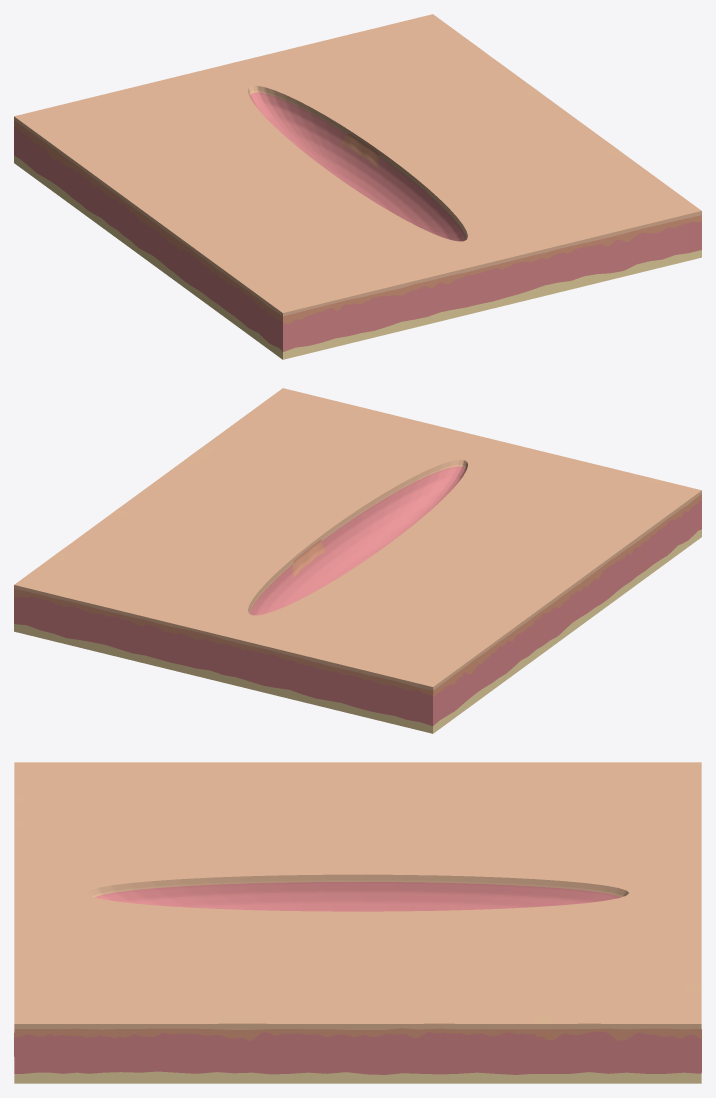
Rendered from suture_pad.glb.
3 views of the same model, one above another, from view 1: azimuth 30°, elevation 25°; view 2: azimuth 150°, elevation 25°; view 3: azimuth 270°, elevation 25° (orthographic). The views are drawn at different scales.
Visible parts, largest first — view 1: epidermis_4, dermis_5, subcutaneous.001_6, spacebetween_8; view 2: epidermis_4, dermis_5, subcutaneous.001_6, spacebetween_8; view 3: epidermis_4, dermis_5, subcutaneous.001_6, spacebetween_8.
Part boxes in pixels (x1=…): epidermis_4: x1=14, y1=14, x2=701, y2=316; dermis_5: x1=14, y1=92, x2=701, y2=351; subcutaneous.001_6: x1=14, y1=155, x2=701, y2=359; spacebetween_8: x1=14, y1=120, x2=701, y2=323; epidermis_4: x1=14, y1=388, x2=701, y2=690; dermis_5: x1=14, y1=466, x2=701, y2=725; subcutaneous.001_6: x1=14, y1=529, x2=701, y2=733; spacebetween_8: x1=14, y1=494, x2=701, y2=696; epidermis_4: x1=14, y1=762, x2=701, y2=1029; dermis_5: x1=14, y1=882, x2=701, y2=1074; subcutaneous.001_6: x1=14, y1=1071, x2=701, y2=1083; spacebetween_8: x1=14, y1=1028, x2=701, y2=1040.
Size of what is drawn, in the model's own units: 1.94 by 0.208 by 2.16.
